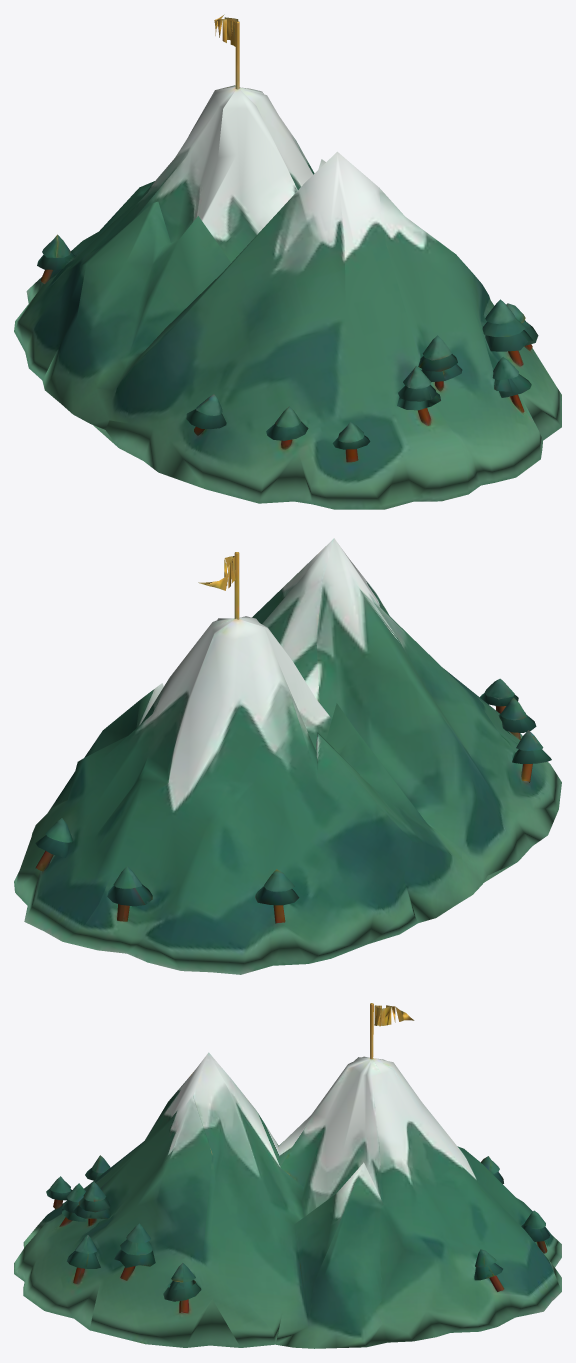
The model's file is peak.glb.
The picture shows the model from 3 angles, top to bottom: view 1: azimuth 30°, elevation 25°; view 2: azimuth 150°, elevation 25°; view 3: azimuth 270°, elevation 25°; orthographic projection. The views are drawn at different scales.
Bounding box in the file's own units: 0.6714 × 0.5107 × 0.959.
1 material, 1 textured.
